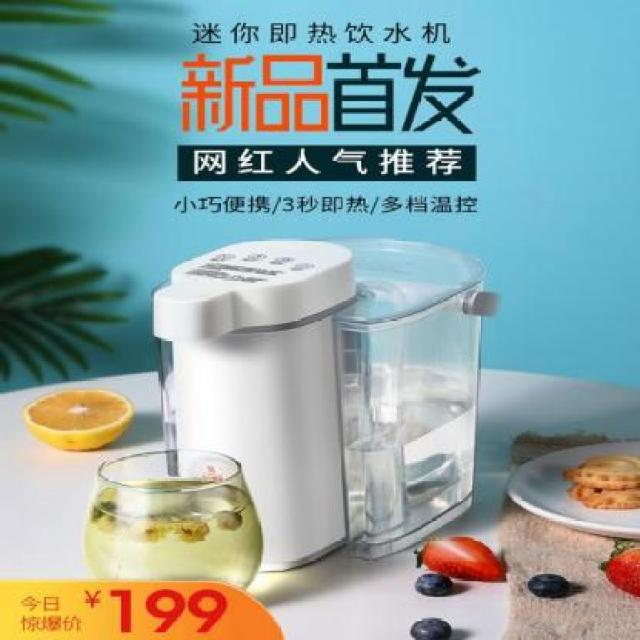cooler: (149, 234, 495, 575)
